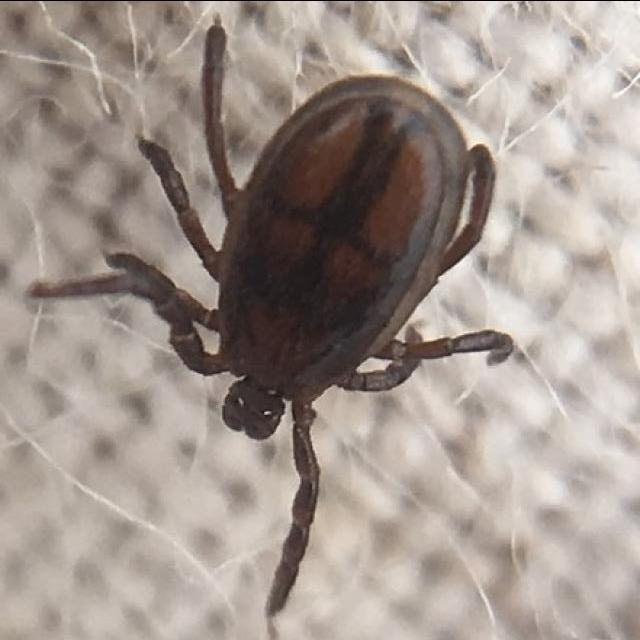Ixodes Ricinus-M: (25, 17, 512, 615)
